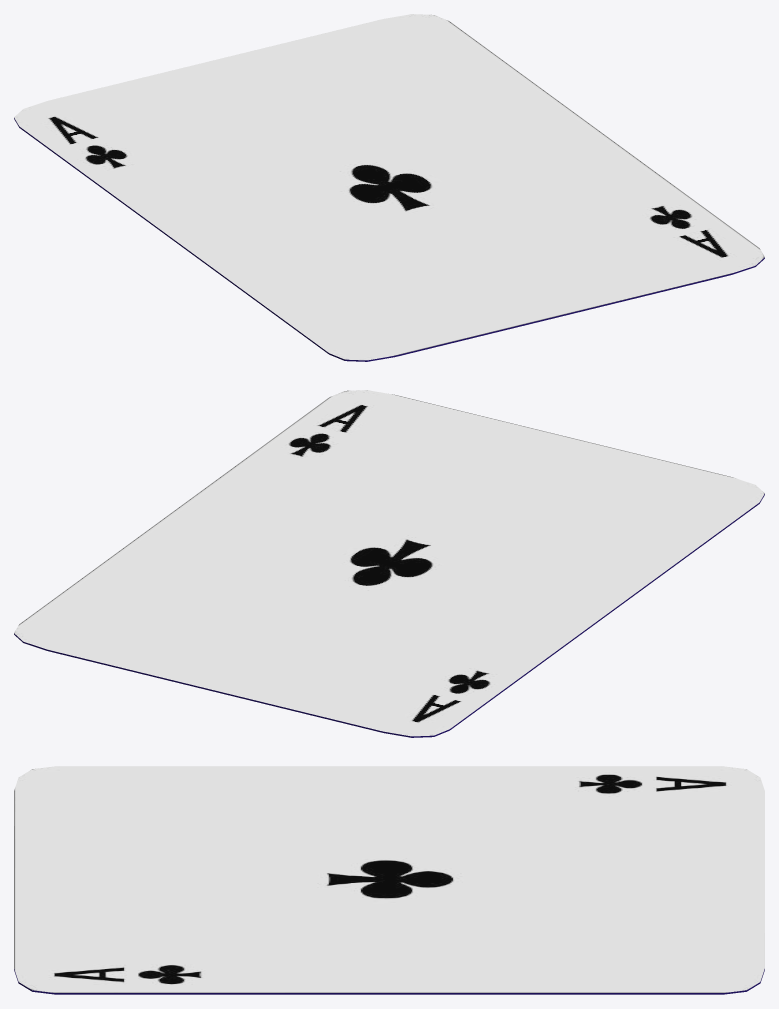
The model's file is Card.fbx.
The picture shows the model from 3 angles, top to bottom: view 1: azimuth 30°, elevation 25°; view 2: azimuth 150°, elevation 25°; view 3: azimuth 270°, elevation 25°; orthographic projection. The views are drawn at different scales.
Visible parts, largest first — view 1: Card; view 2: Card; view 3: Card.
Part boxes in pixels (x1,y1,x2,y2): Card: [14, 14, 764, 361]; Card: [14, 390, 764, 737]; Card: [14, 766, 764, 994].
Size of the model in its own units: 6.35 by 0.02 by 8.89.
3 materials, 3 textured.
